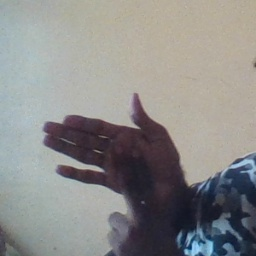N: (33, 90, 179, 219)
